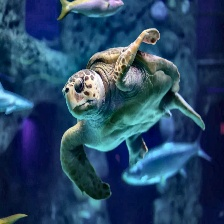seaturtle: (59, 28, 205, 219), (57, 0, 125, 21), (0, 213, 28, 224)
